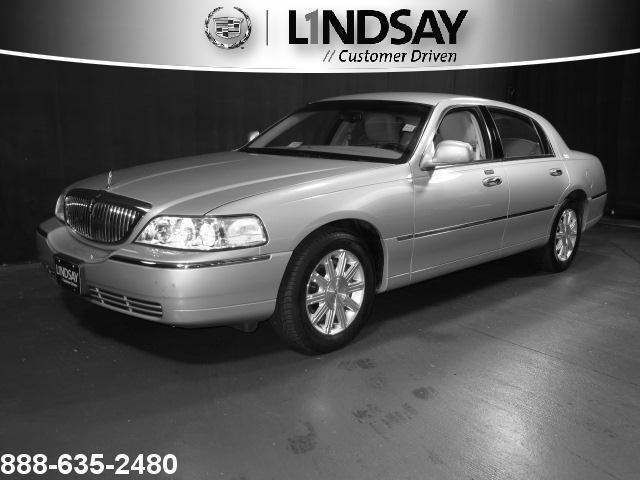car: (31, 90, 613, 360)
